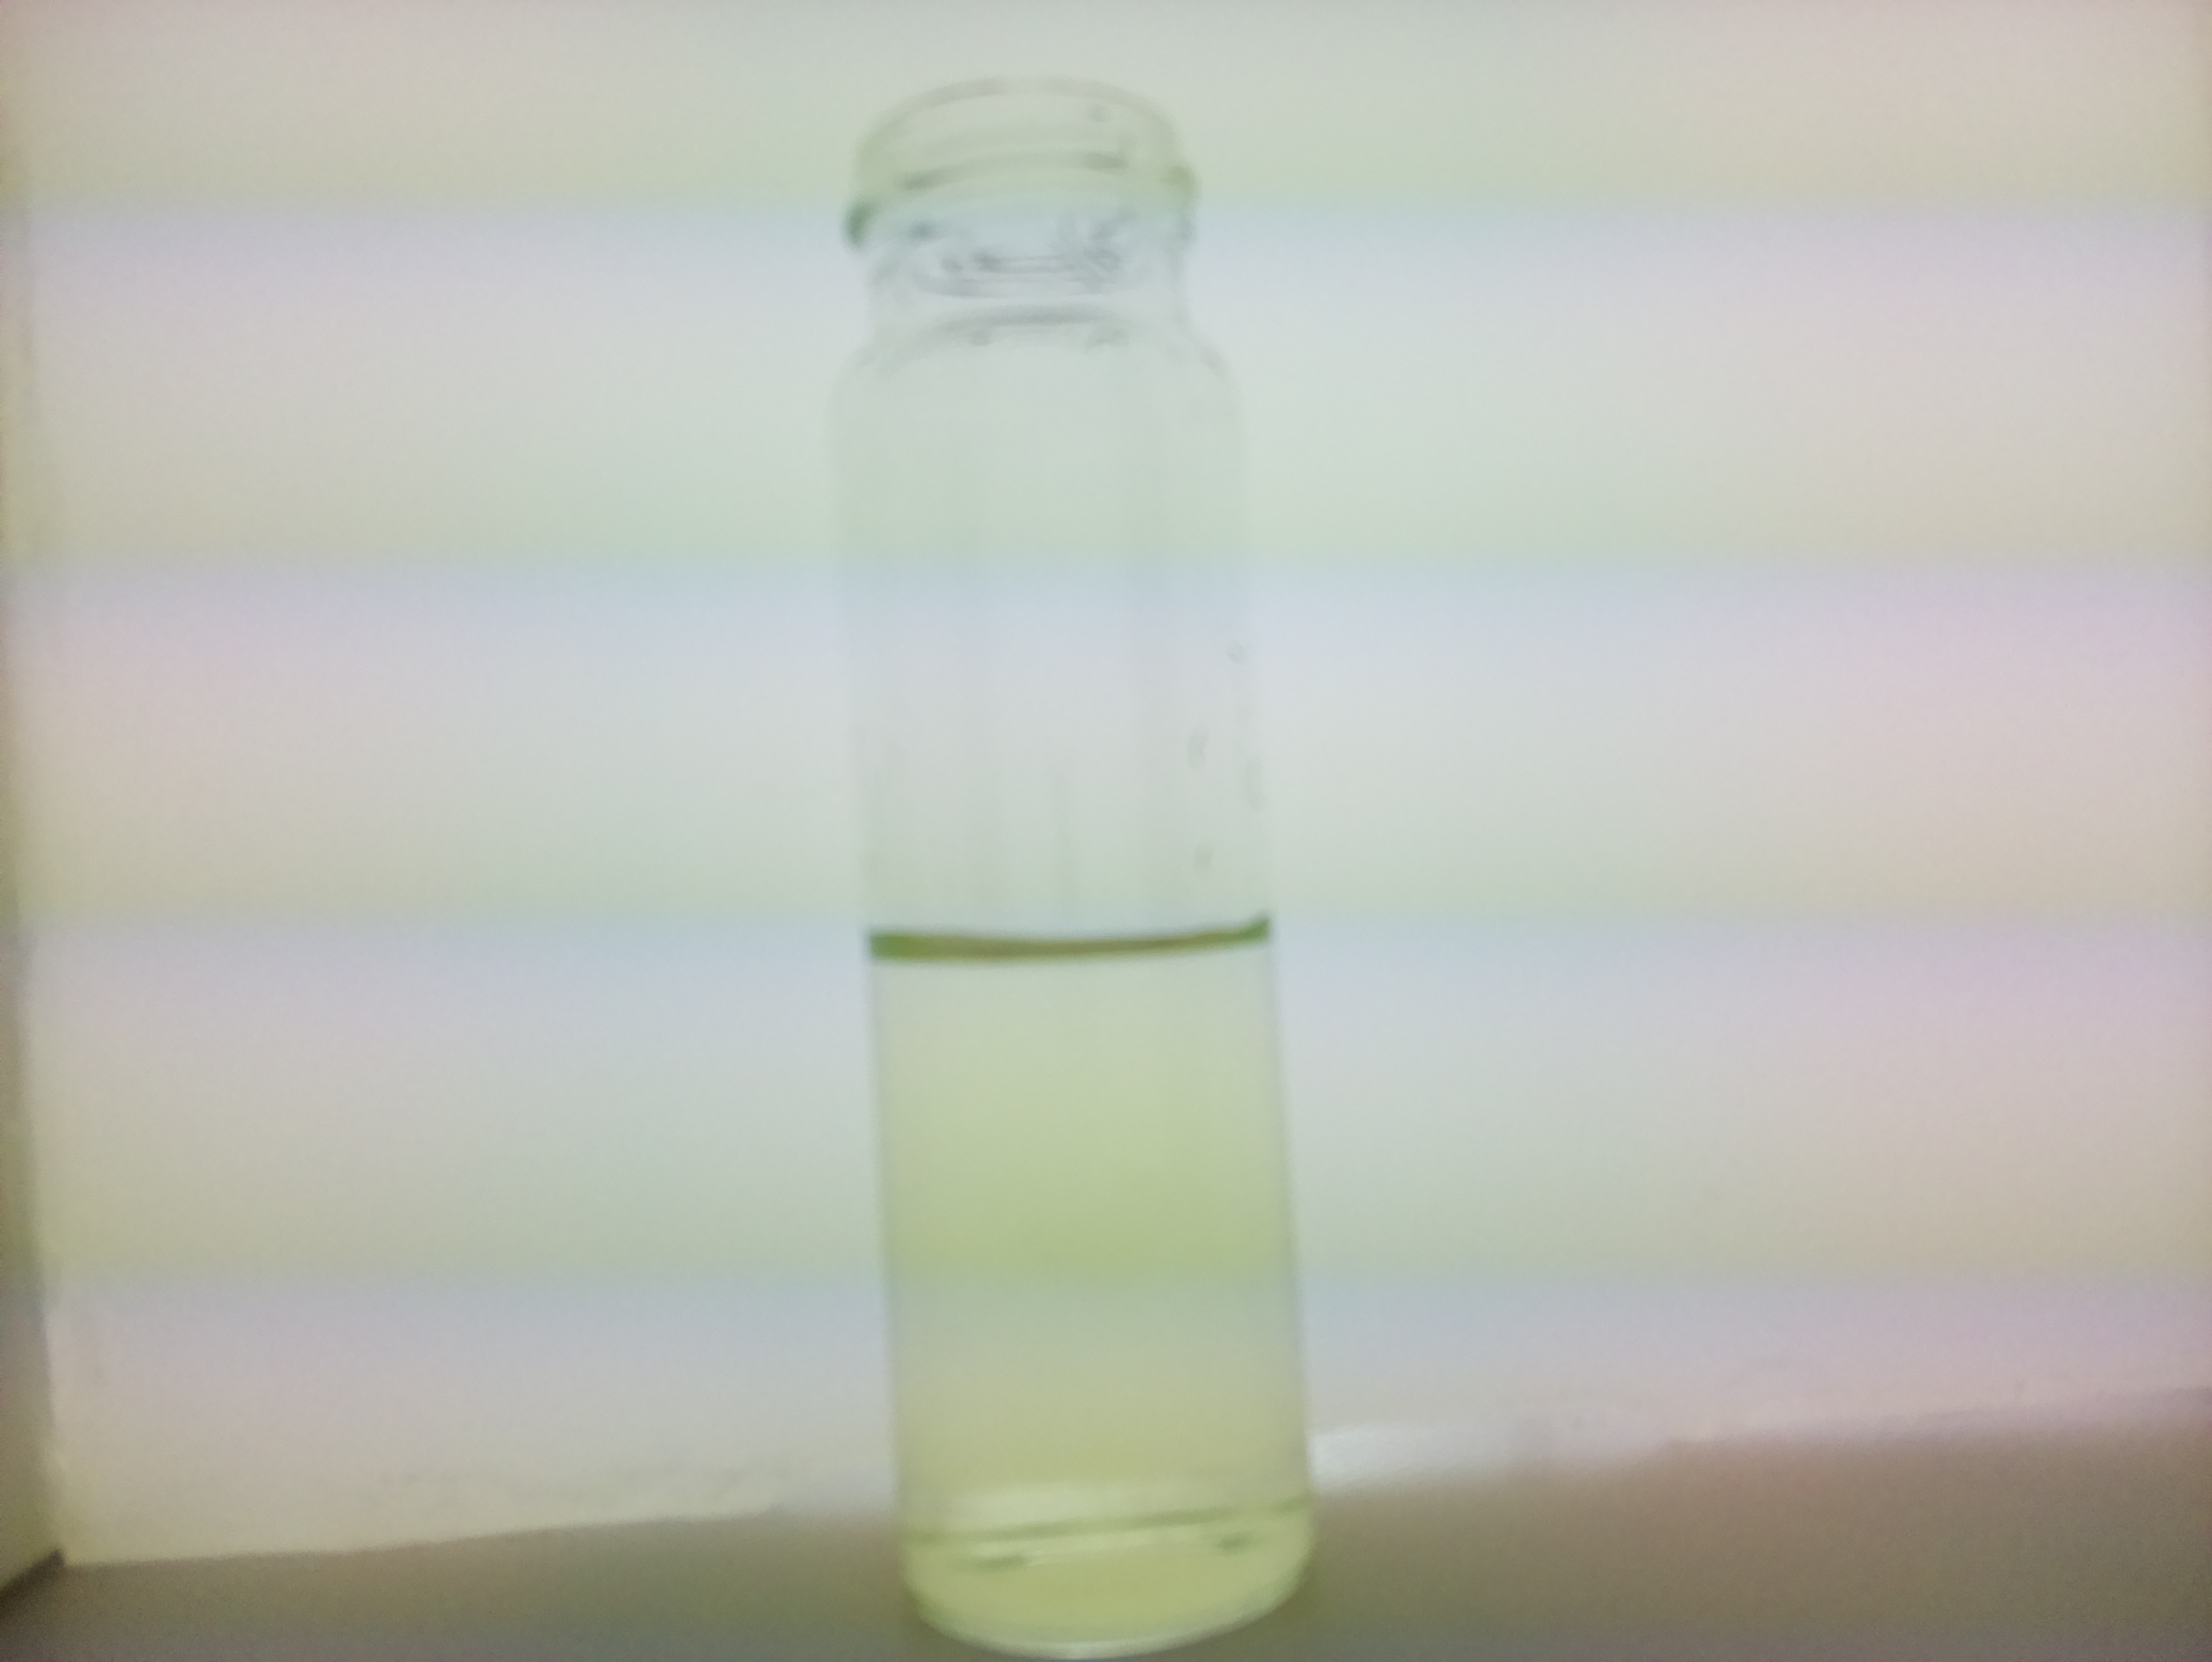colored_area: (880, 931, 1318, 1655)
